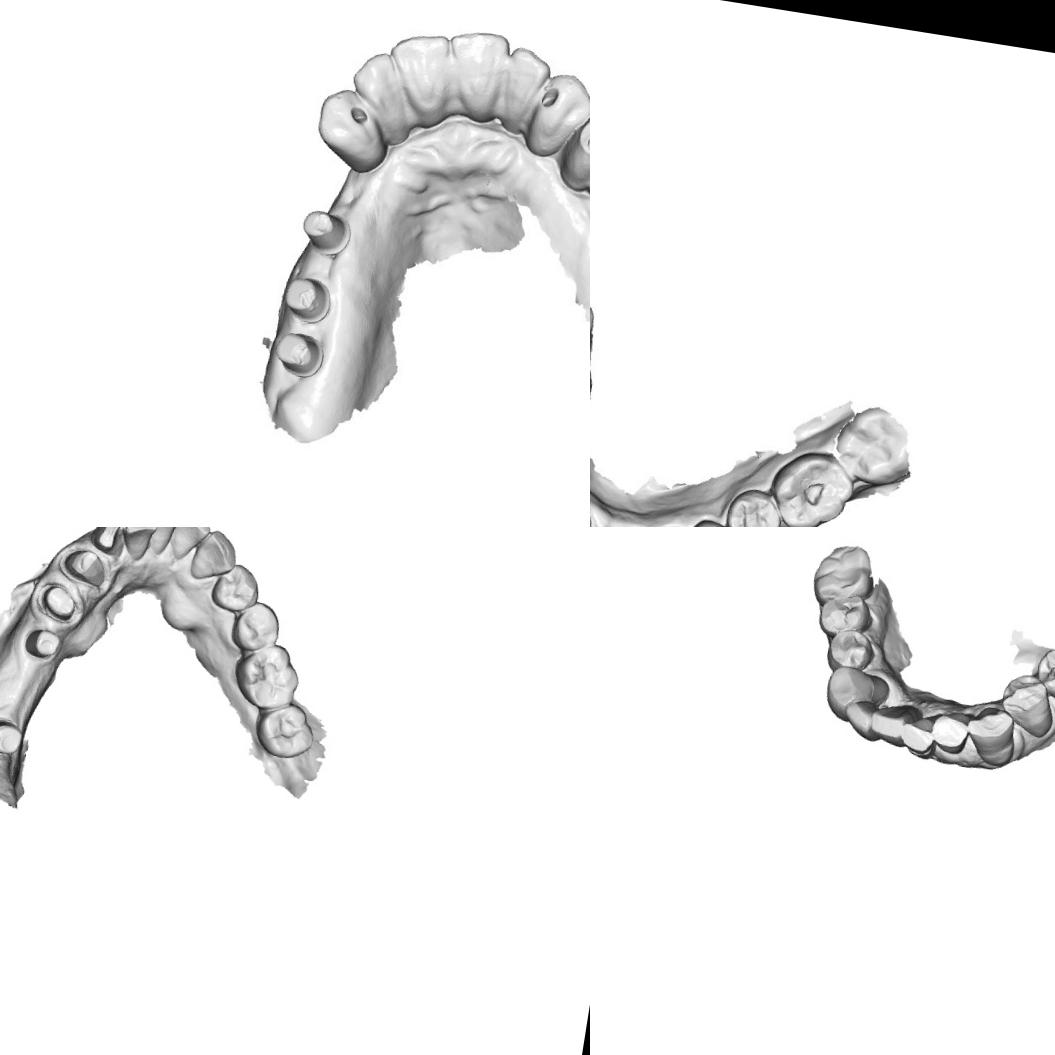abutment: (264, 324, 336, 388), (295, 202, 354, 260), (278, 269, 336, 326), (22, 623, 64, 663), (0, 713, 27, 759)
canine: (523, 59, 590, 158), (310, 84, 390, 163), (818, 664, 883, 728), (960, 701, 1020, 768), (187, 527, 242, 585)
crown: (56, 544, 112, 590), (33, 579, 83, 625)
incisor: (438, 25, 516, 119), (380, 26, 458, 109), (346, 47, 415, 122), (497, 43, 556, 127), (868, 698, 920, 750), (927, 705, 971, 756), (896, 712, 940, 760), (839, 697, 882, 744), (165, 527, 214, 566), (118, 527, 161, 564), (87, 527, 127, 559), (141, 527, 182, 558)
molar: (826, 398, 918, 492), (761, 443, 857, 527), (229, 637, 306, 715), (807, 537, 882, 612), (251, 698, 321, 764)
premolar: (995, 670, 1055, 740), (812, 588, 876, 644), (228, 596, 284, 656), (208, 558, 264, 616), (820, 624, 880, 674), (722, 483, 785, 527), (563, 101, 590, 189), (1029, 645, 1055, 710)
